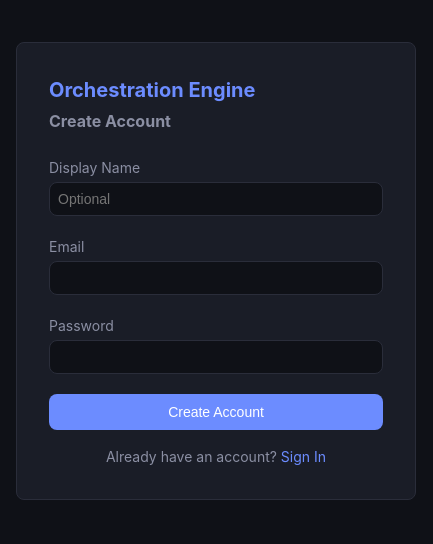
Test: Register › failed register shows error
Type "a@b.com" into the field labelled "Email" at (216, 278), box left=49, top=261, right=383, bottom=295
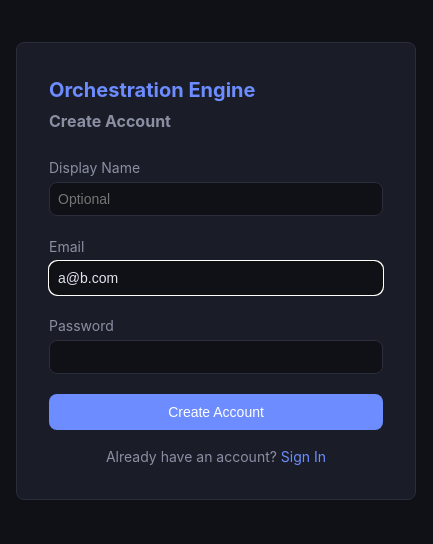
Type "password123" into the password field labelled "Password" at (216, 357), box left=49, top=340, right=383, bottom=374
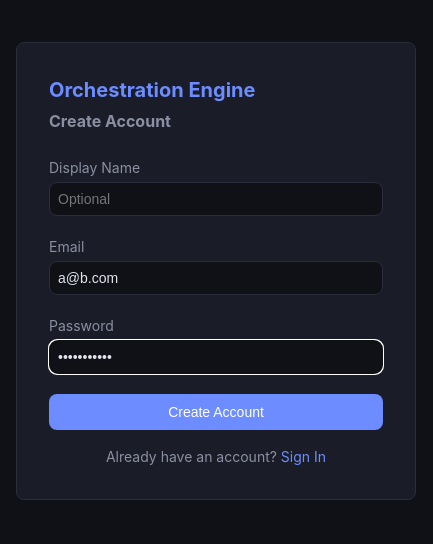
Click the button "Create Account" at (216, 412), box left=49, top=394, right=383, bottom=430
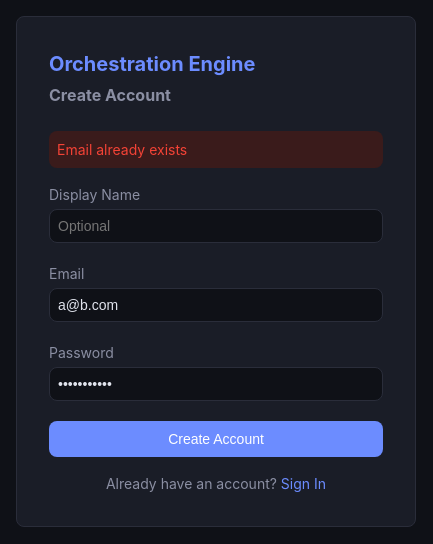
Check: the text "Email already exists" is shown, box left=49, top=130, right=383, bottom=168
